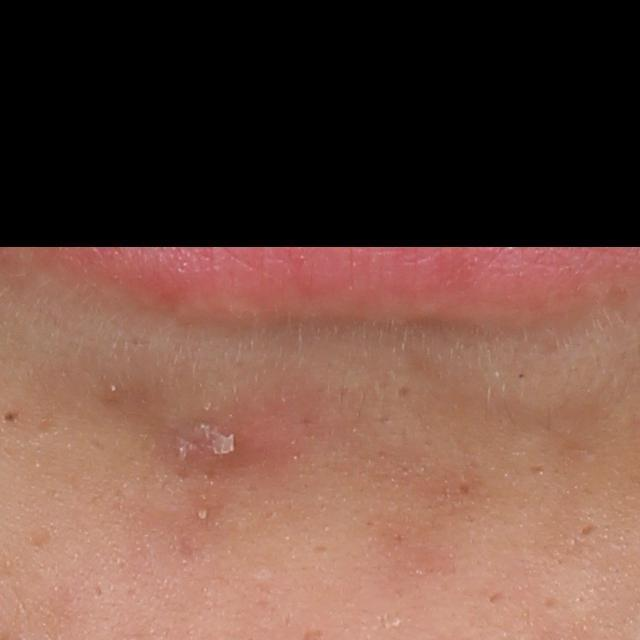atrophic_scar: (577, 521, 601, 542), (393, 384, 409, 402), (456, 482, 474, 497), (529, 465, 546, 476)
nevus: (0, 408, 23, 426)
